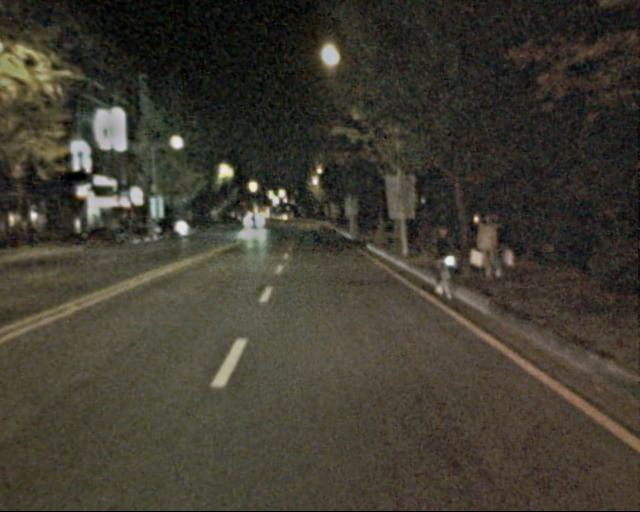person: (428, 228, 458, 294), (474, 214, 501, 280), (486, 213, 512, 276)
